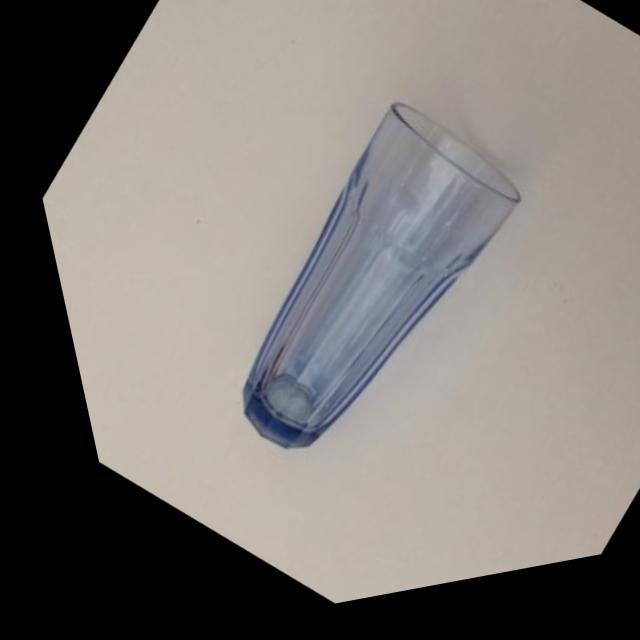glass: (83, 29, 639, 583)
